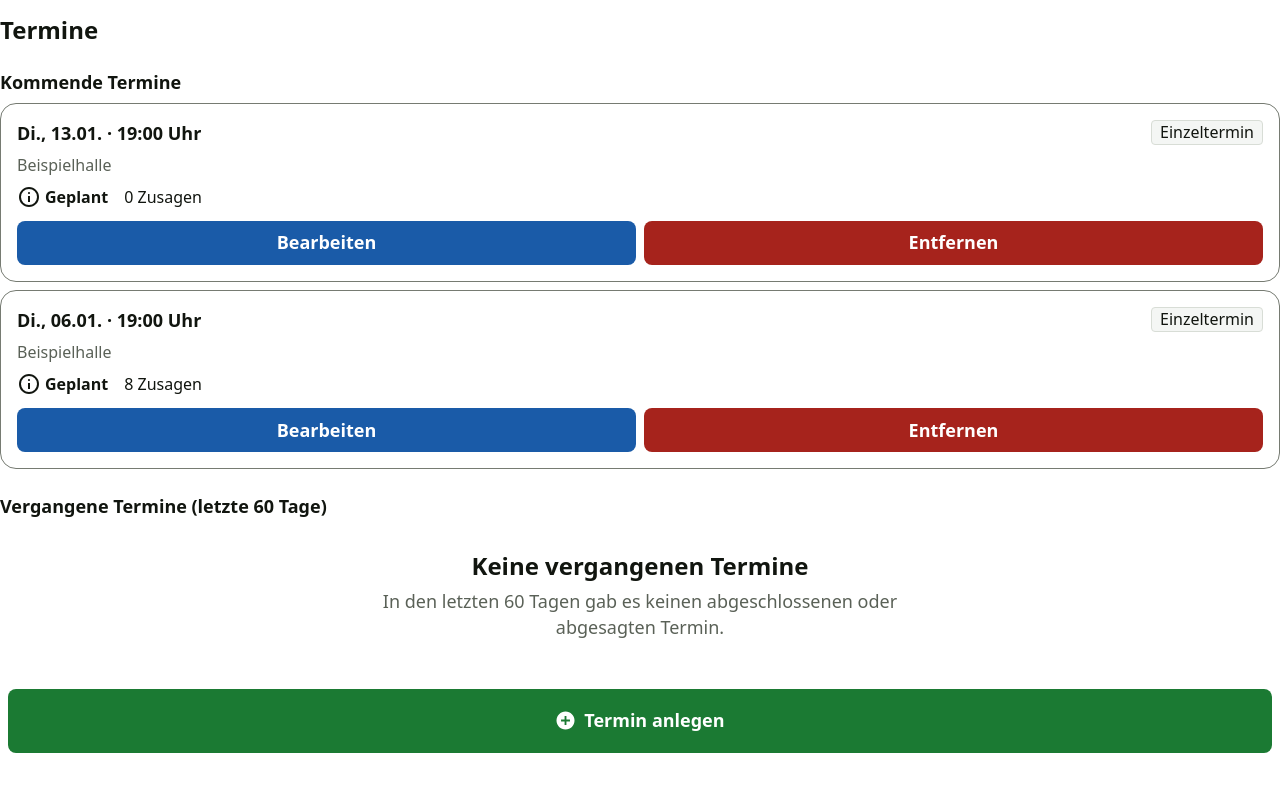
Test: AdminTermine › Erfolg: Termin ist weg, „Termin entfernt.“ steht oben, der Fokus liegt auf der Überschrift
Click the button with test id "admin-termin-entfernen-4" at (954, 243), box [644,221,1263,265]
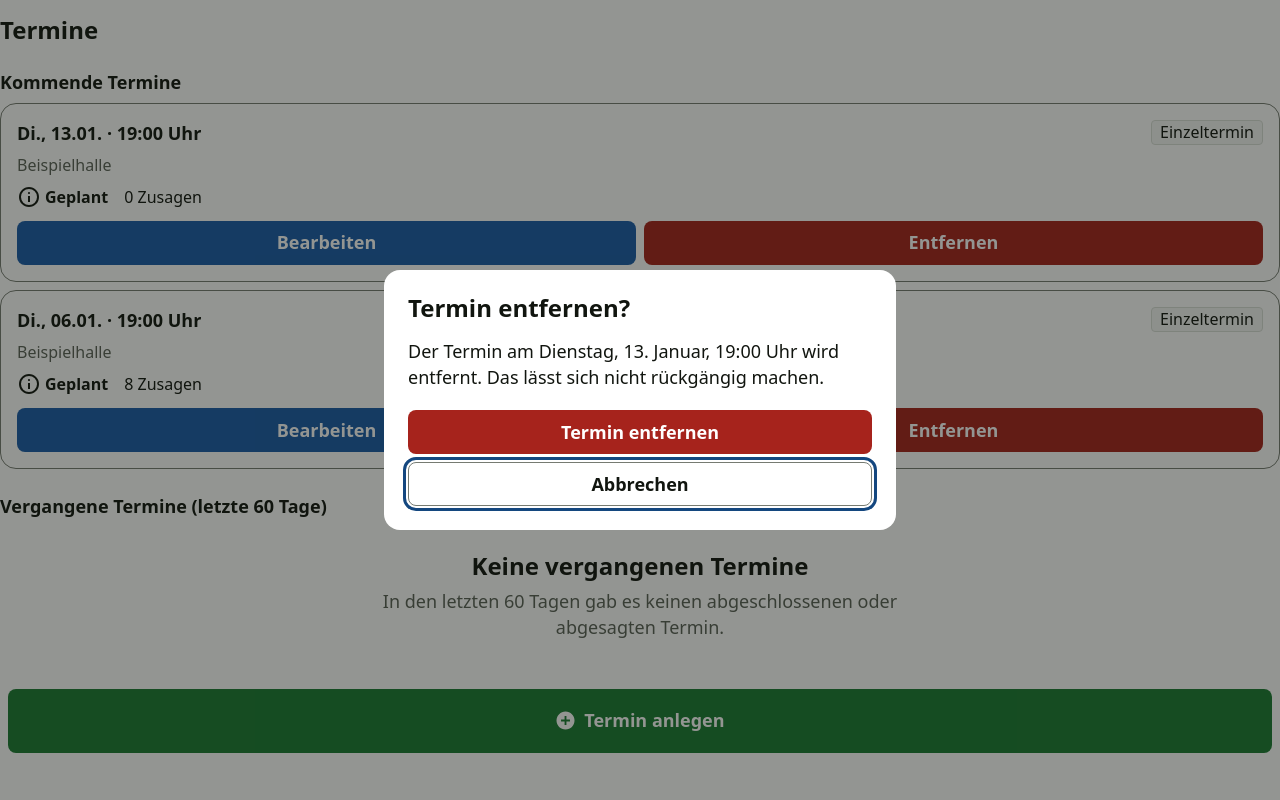
Click the button with test id "admin-termine-entfernen-dialog-bestaetigen" at (640, 432), box [408,410,872,454]
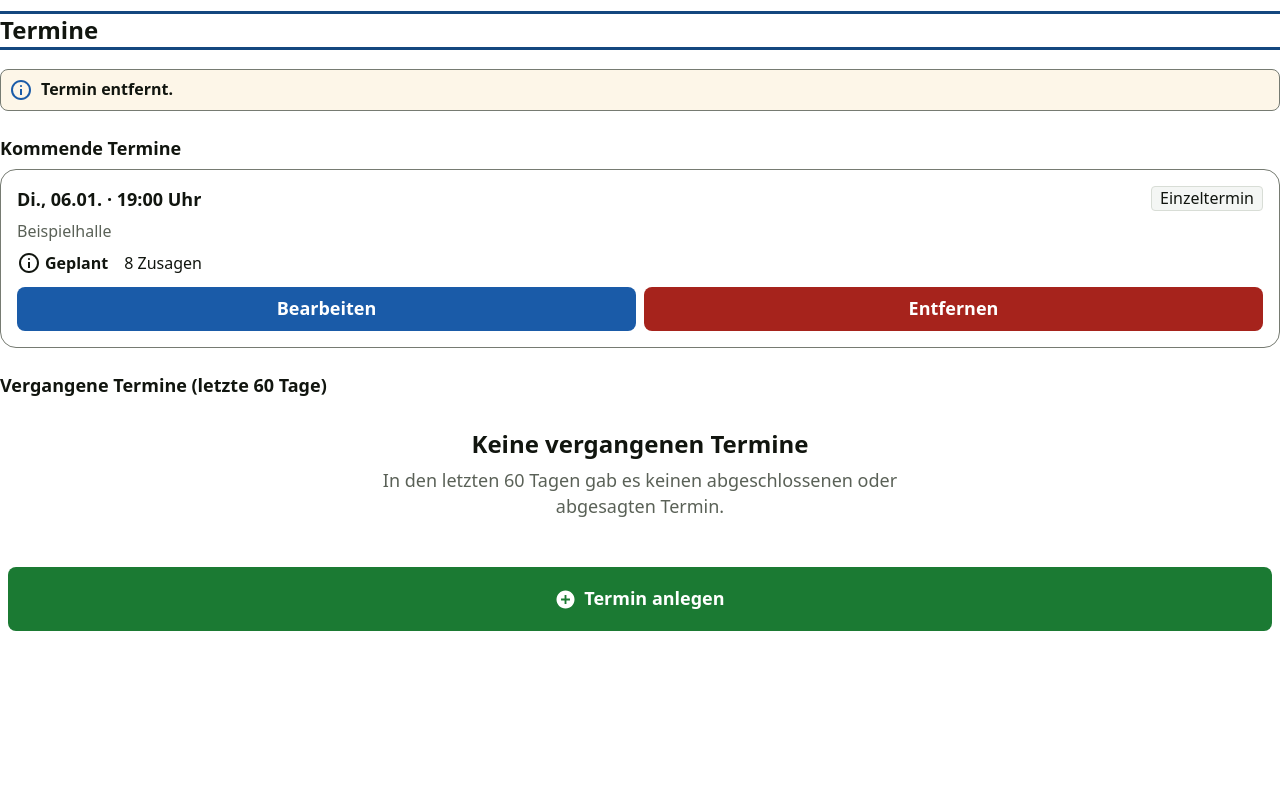
Expected: the message with test id "admin-termine-entfernt" reads "Termin entfernt.", [41,78,173,100]
Expected: the element with test id "admin-termin-zeile-4" is gone
